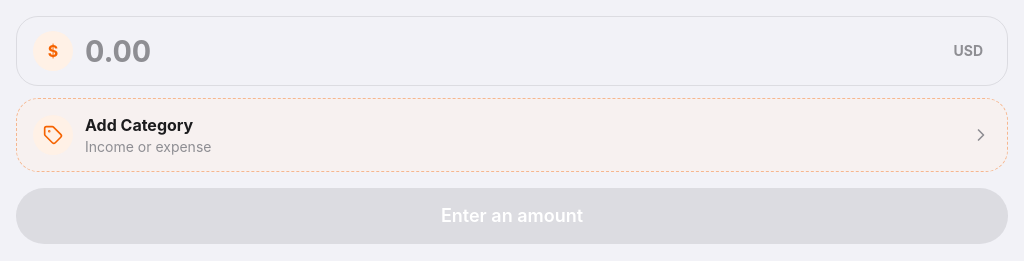
AddComposer (add mode) › sanitizes the amount to digits, one dot and two decimals
Type "1a2.3.456" into the field named "Amount". click: [509, 51]
box: [85,33,934,69]
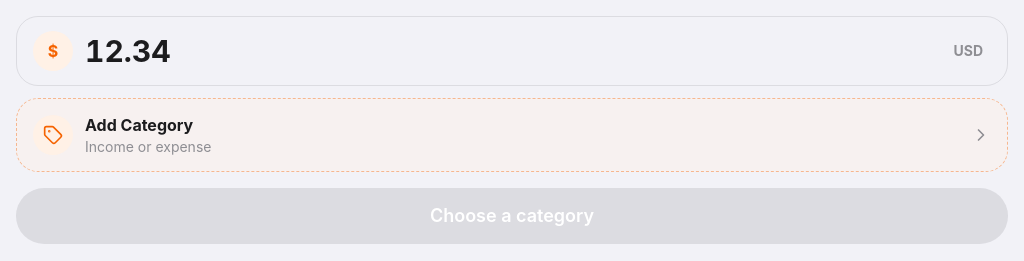
Expected: the field named "Amount" holds "12.34", [85,33,934,69]
